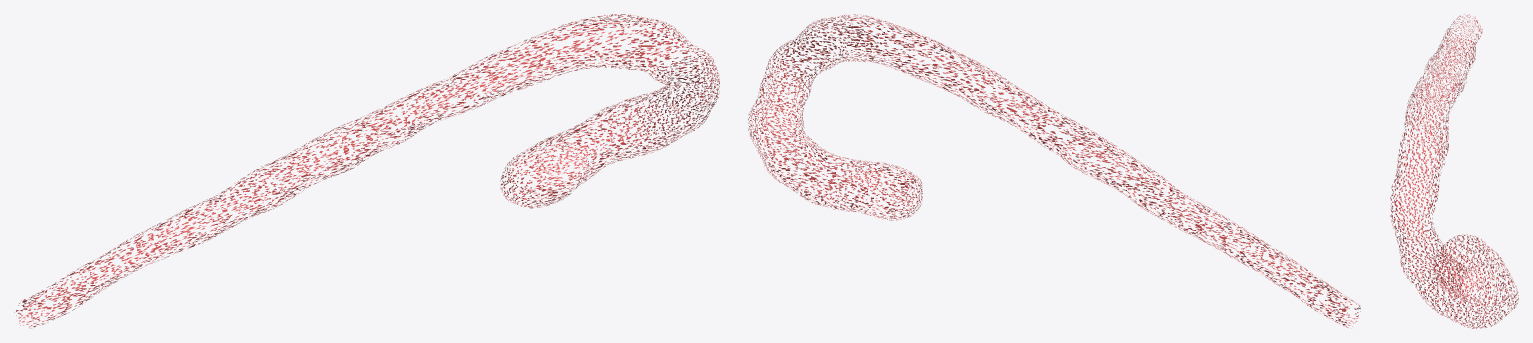
The model's file is aorta.glb.
The picture shows the model from 3 angles, left to right: view 1: azimuth 30°, elevation 25°; view 2: azimuth 150°, elevation 25°; view 3: azimuth 270°, elevation 25°; orthographic projection. The views are drawn at different scales.
Bounding box in the file's own units: 263 × 71.58 × 43.12.
